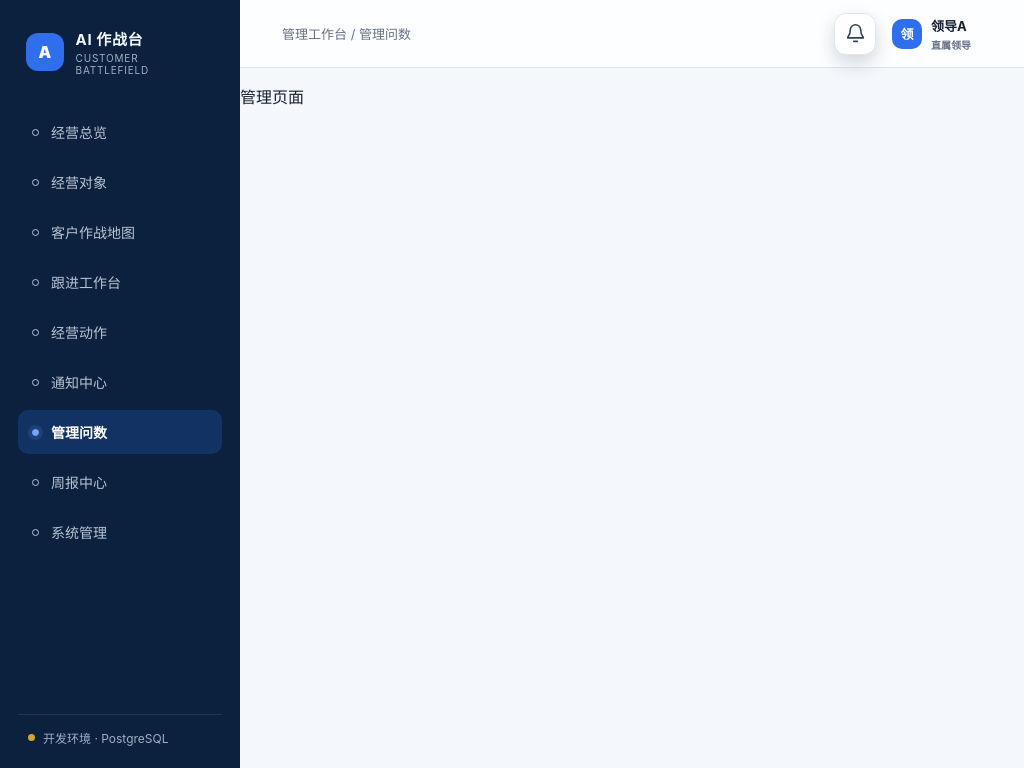
Test: AppShell › shows Leader A its direct department sales roster
Click the heading named "打开账号菜单".
click(932, 34)  # box [892,18,971,50]
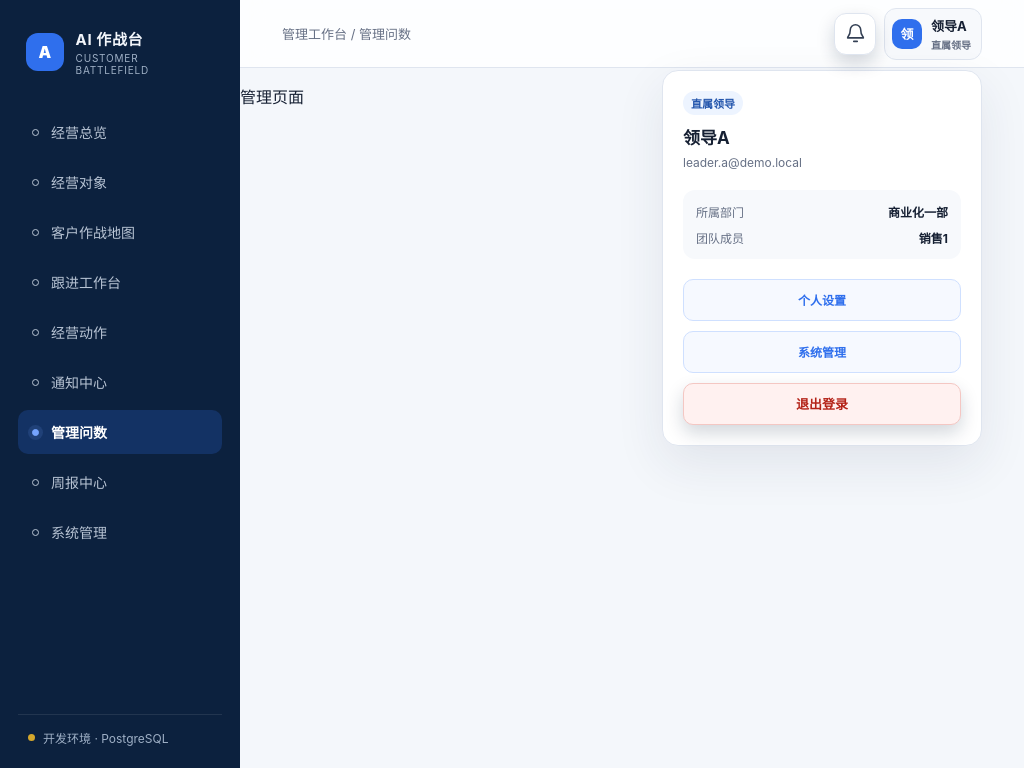
expect the text "团队成员" is shown: met, box [696,230,744,246]
expect the text "销售1" is shown: met, box [919,230,948,246]
expect the button "退出登录" is enabled: met, box [683,382,961,424]
